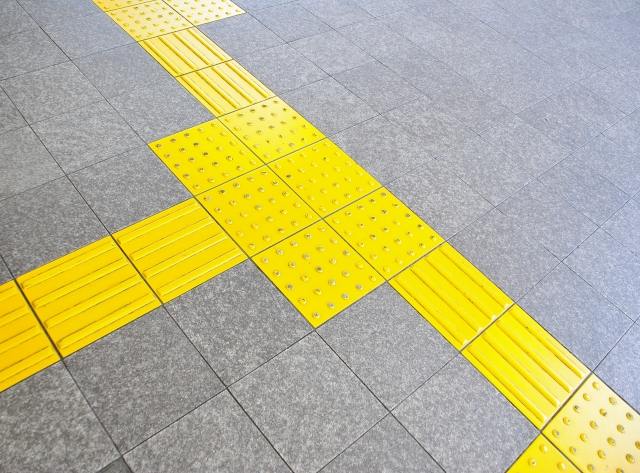dot: (270, 239, 363, 303), (572, 388, 637, 473), (344, 203, 429, 266), (210, 185, 294, 237), (171, 127, 245, 181), (285, 153, 360, 203), (236, 107, 304, 154), (118, 4, 177, 34), (175, 1, 233, 18)
line: (396, 248, 499, 334), (34, 253, 144, 331), (477, 325, 573, 410), (135, 219, 230, 278), (200, 65, 254, 110), (148, 33, 223, 65)
